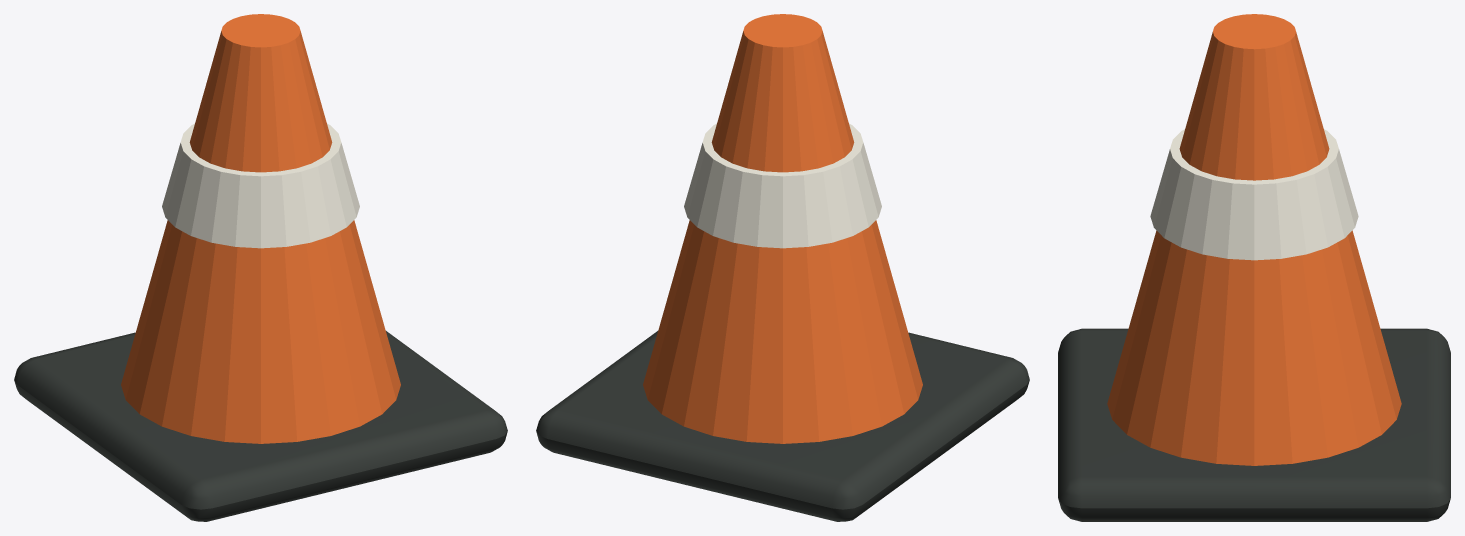
The picture shows the model from 3 angles, left to right: view 1: azimuth 30°, elevation 25°; view 2: azimuth 150°, elevation 25°; view 3: azimuth 270°, elevation 25°; orthographic projection. The views are drawn at different scales.
Visible parts, largest first — view 1: cone_Traffic orange, cone_Rubber, cone_Tape; view 2: cone_Traffic orange, cone_Rubber, cone_Tape; view 3: cone_Traffic orange, cone_Rubber, cone_Tape.
Boxes of the visible parts, bbox=[...] form: cone_Traffic orange: bbox=[121, 14, 400, 443]; cone_Rubber: bbox=[14, 331, 507, 521]; cone_Tape: bbox=[162, 123, 359, 248]; cone_Traffic orange: bbox=[643, 14, 922, 443]; cone_Rubber: bbox=[536, 331, 1029, 521]; cone_Tape: bbox=[684, 123, 881, 248]; cone_Traffic orange: bbox=[1107, 14, 1401, 465]; cone_Rubber: bbox=[1058, 328, 1450, 521]; cone_Tape: bbox=[1150, 129, 1358, 260].
Bounding box in the file's own units: 0.66 × 0.77 × 0.66.
